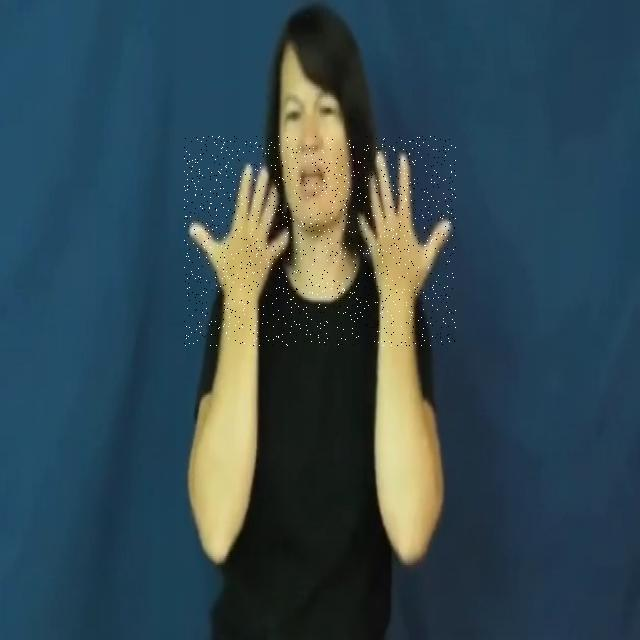cold: (184, 136, 456, 346)
